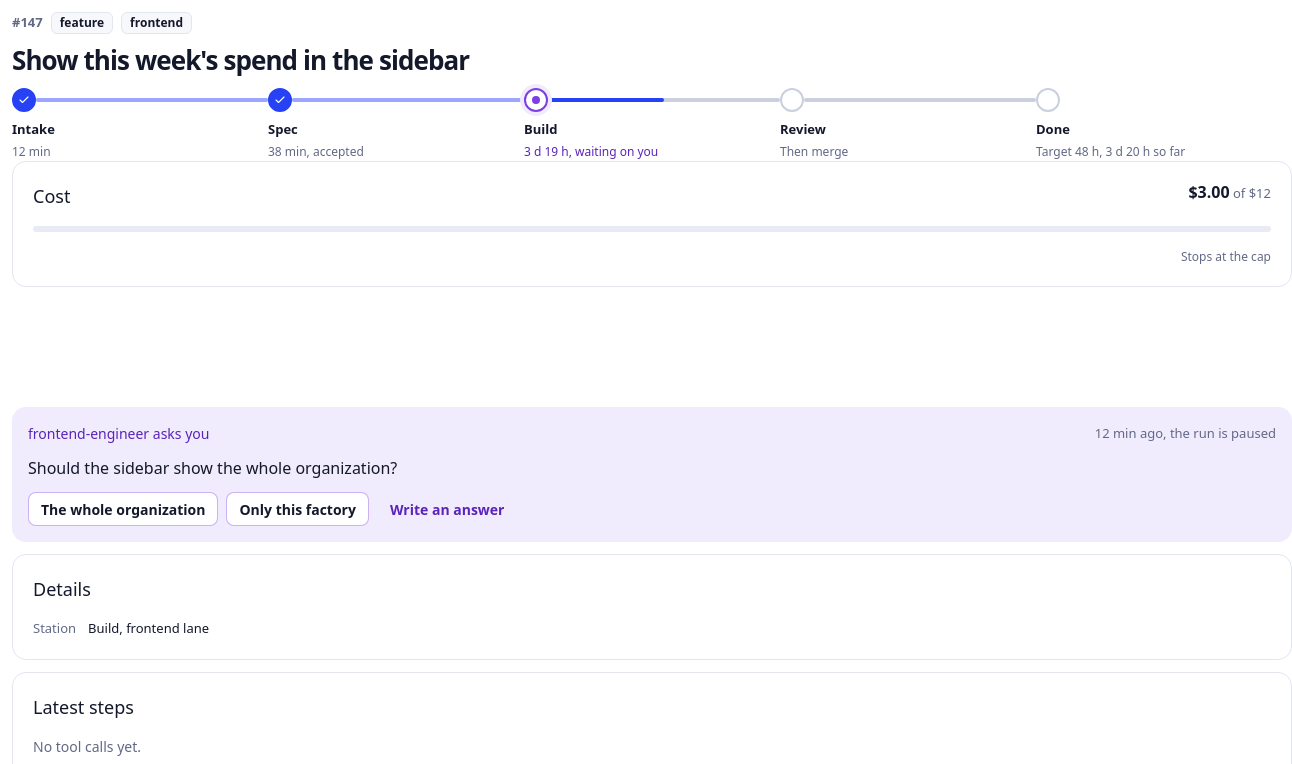
it: the question, the tabs and the spec › opens the answer field from Write an answer on the card, not the note field
Click the button "Write an answer": {"x": 447, "y": 509} top-left (377, 492), bottom-right (517, 526)
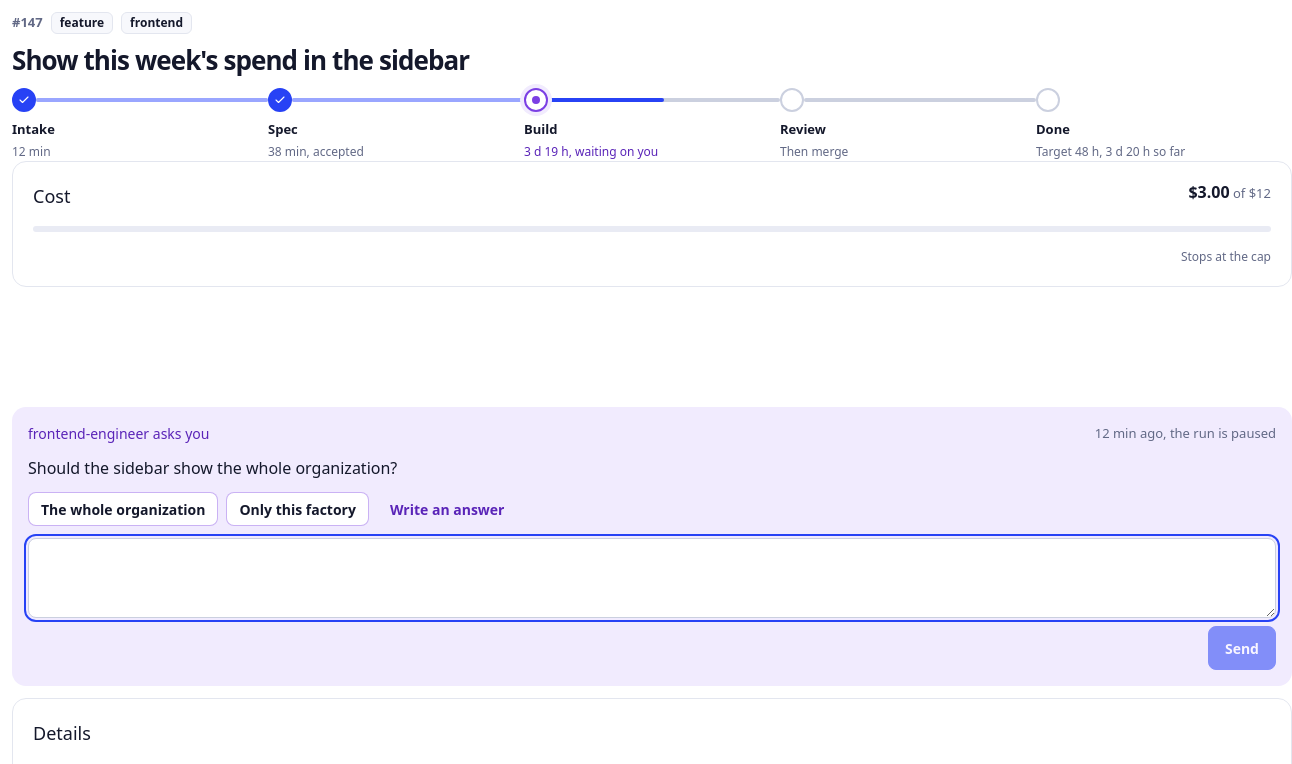
Now the text box named "Your answer" is shown, box top-left (28, 538), bottom-right (1276, 618)
